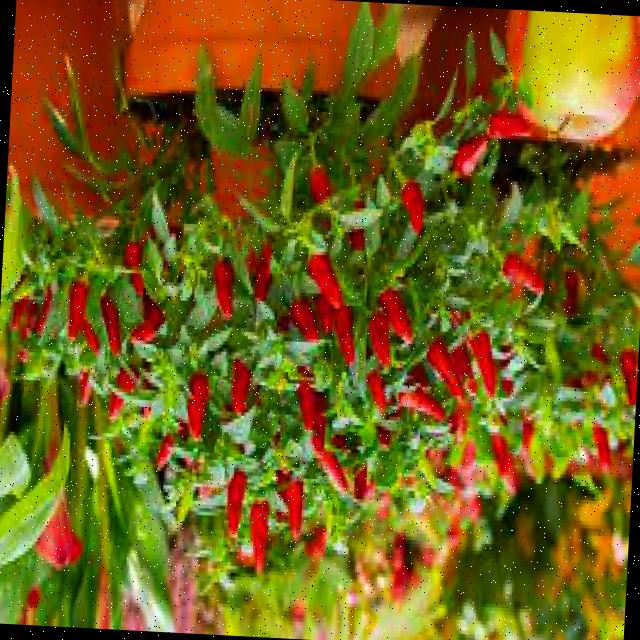healthy: (272, 0, 419, 162)
